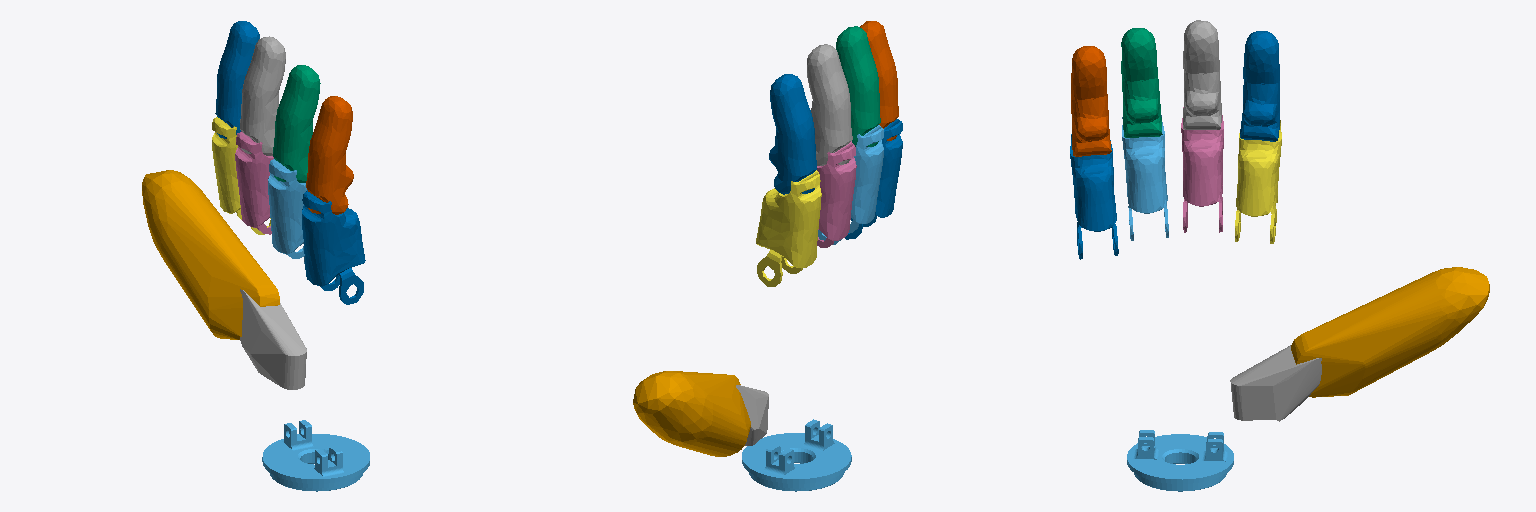
URDF robot description (ability_hand):
<robot name="ability_hand">
  <link name="base_link"/>
  <joint name="base_joint" type="fixed">
    <parent link="base_link"/>
    <child link="base"/>
    <origin xyz="0 0 0" rpy="0 0 -1.57079"/>
  </joint>
  <link name="base">
    <visual name="wrist_mesh">
      <origin rpy="0 0 0" xyz="0 0 0"/>
      <geometry>
        <mesh filename="meshes/visual/wristmesh.obj"/>
      </geometry>
    </visual>
    <collision>
      <origin xyz="0 0 0" rpy="0 0 0"/>
      <geometry>
        <mesh filename="meshes/collision/wristmesh_C.obj"/>
      </geometry>
    </collision>
    <inertial>  <!-- the mass and inertia here are NOT correct -->
      <mass value="0.200"/>
      <inertia ixx="978.26e-6" ixy="87.34e-6" ixz="322.99e-6" iyy="1244.78e-6" iyz="244.74e-6" izz="456.22e-6"/>
      <origin xyz="22.41911e-3 -0.15798201e-3 -0.01319866e-3" rpy="0 0 0"/>
    </inertial>
  </link>
  <joint name="wrist2thumb" type="fixed">
    <parent link="base"/>
    <child link="thumb_base"/>
    <origin xyz="-24.0476665e-3 3.78124745e-3 32.32964923e-3" rpy="3.14148426 -0.08848813 -3.14036612"/>
  </joint>
  <link name="thumb_base">
    <inertial>
      <mass value="0.200"/>
      <inertia ixx="978.26e-6" ixy="87.34e-6" ixz="322.99e-6" iyy="1244.78e-6" iyz="244.74e-6" izz="456.22e-6"/>
      <origin xyz="22.41911e-3 -0.15798201e-3 -0.01319866e-3" rpy="0 0 0"/>
    </inertial>
    <visual name="palm_mesh">
      <origin rpy="0 0 0" xyz="0 0 0"/>
      <geometry>
        <mesh filename="meshes/visual/FB_palm_ref_MIR.obj"/>
      </geometry>
    </visual>
    <collision>                                  <!-- thumb_base -->
      <origin xyz="0 0 0" rpy="0 0 0"/>
      <geometry>
        <mesh filename="meshes/collision/FB_palm_ref_MIR.obj"/>
      </geometry>
    </collision>
  </link>
  <link name="index_L1">
    <inertial>
      <mass value="0.00635888"/>
      <inertia ixx="0.29766e-4" ixy="-0.06447133e-4" ixz="-0.00423315e-4" iyy="3.6947967e-4" iyz="0.00083028e-4" izz="3.8176336e-4"/>
      <origin xyz="22.41911e-3 -0.15798201e-3 -0.01319866e-3" rpy="0 0 0"/>
    </inertial>
    <visual name="index_mesh_1">
      <origin xyz="38.472723e-3 3.257695e-3 0.000000" rpy="0 0 0.084474"/>
      <geometry>
        <mesh filename="meshes/visual/idx-F1.obj"/>
      </geometry>
    </visual>
    <collision>                                  <!-- index_L1 -->
      <origin xyz="0.036 -0.00175 0" rpy="0 0 0"/>
      <geometry>
        <sphere radius="0.0085"/>
      </geometry>
    </collision>
    <collision>
      <origin xyz="0.019 -0.0045 0" rpy="0 0 0.0845"/>
      <geometry>
        <box size="0.028 0.012 0.016"/>
      </geometry>
    </collision>
    <collision>
      <origin xyz="-0.001 0 0.007" rpy="0 0 0.0845"/>
      <geometry>
        <box size="0.012 0.012 0.002"/>
      </geometry>
    </collision>
    <collision>
      <origin xyz="-0.001 0 -0.007" rpy="0 0 0.0845"/>
      <geometry>
        <box size="0.012 0.012 0.002"/>
      </geometry>
    </collision>
  </link>
  <link name="index_L2">
    <inertial>
      <mass value="0.00645"/>
      <inertia ixx="0.82671e-4" ixy="-1.08876e-4" ixz="-0.00037e-4" iyy="1.98028e-4" iyz="0.00081e-4" izz="2.64638e-4"/>
      <origin rpy="0 0 0" xyz="13.36818e-3 -8.75392e-3 -0.02886e-3"/>
    </inertial>
    <visual name="index_mesh_2">
      <origin rpy="0 0 0" xyz="9.1241e-3 0 0"/>
      <geometry>
        <mesh filename="meshes/visual/idx-F2.obj"/>
      </geometry>
    </visual>
    <collision>                            <!-- index_L2 -->
      <origin xyz="0 0 0" rpy="0 0 0"/>
      <geometry>
        <mesh filename="meshes/collision/idx-F2_C.obj"/>
      </geometry>
    </collision>
    <collision>
      <origin xyz="0.03 -0.016 0" rpy="0 0 0"/>
      <geometry>
        <sphere radius="0.007"/>
      </geometry>
    </collision>
  </link>
  <joint name="index_q1" type="revolute">
    <parent link="thumb_base"/>
    <child link="index_L1"/>
    <origin xyz=" 9.49e-3 -13.04e-3 -62.95e-3 " rpy=" -1.1595426535897932 1.284473 -1.0510016535897932 "/>
    <axis xyz="0 0 1"/>
    <limit lower="0" upper="2.0943951" effort="6.0" velocity="8.0677777442"/>    <!-- angles in rad, efforts in N-m, velocity in rad/s -->
    <dynamics damping="0.001" friction="0.001"/>  <!-- Friction coefficient is not from quantitative measurement -->
  </joint>
  <joint name="index_q2" type="revolute">
    <parent link="index_L1"/>
    <child link="index_L2"/>
    <origin xyz="38.472723e-3 3.257695e-3 0.000000e-3" rpy="0 0 0.084474"/>
    <axis xyz="0 0 1"/>
    <limit lower="0.0" upper="2.6586" effort="6.0" velocity="8.0677777442"/>    <!-- angles in rad, efforts in N-m, velocity in rad/s -->
    <dynamics damping="0.001" friction="0.001"/>  <!-- Friction coefficient is not from quantitative measurement -->
    <mimic joint="index_q1" multiplier="1.05851325" offset="0.72349796"/>
  </joint>
  <link name="index_anchor"/>
  <joint name="idx_anchor" type="fixed">
    <parent link="index_L2"/>
    <child link="index_anchor"/>
    <origin rpy="0 0 0" xyz="31.5541e-3  -10.44e-3 0.14e-3"/>
  </joint>
  <link name="middle_L1">
    <inertial>
      <mass value="0.00635888"/>
      <inertia ixx="0.29766e-4" ixy="-0.06447133e-4" ixz="-0.00423315e-4" iyy="3.6947967e-4" iyz="0.00083028e-4" izz="3.8176336e-4"/>
      <origin xyz="22.41911e-3 -0.15798201e-3 -0.01319866e-3" rpy="0 0 0"/>
    </inertial>
    <visual name="middle_mesh_1">
      <origin xyz="38.472723e-3 3.257695e-3 0.000000" rpy="0 0 0.084474"/>
      <geometry>
        <mesh filename="meshes/visual/idx-F1.obj"/>
      </geometry>
    </visual>
    <collision>                                  <!-- middle_L1 -->
      <origin xyz="0.036 -0.00175 0" rpy="0 0 0"/>
      <geometry>
        <sphere radius="0.0085"/>
      </geometry>
    </collision>
    <collision>
      <origin xyz="0.019 -0.0045 0" rpy="0 0 0.0845"/>
      <geometry>
        <box size="0.028 0.012 0.016"/>
      </geometry>
    </collision>
    <collision>
      <origin xyz="0.018 0.006 0" rpy="0 0 0.0845"/>
      <geometry>
        <box size="0.02 0.01 0.016"/>
      </geometry>
    </collision>
    <collision>
      <origin xyz="-0.001 0 0.007" rpy="0 0 0.0845"/>
      <geometry>
        <box size="0.012 0.012 0.002"/>
      </geometry>
    </collision>
    <collision>
      <origin xyz="-0.001 0 -0.007" rpy="0 0 0.0845"/>
      <geometry>
        <box size="0.012 0.012 0.002"/>
      </geometry>
    </collision>
  </link>
  <link name="middle_L2">
    <inertial>
      <mass value="0.00645"/>
      <inertia ixx="0.82671e-4" ixy="-1.08876e-4" ixz="-0.00037e-4" iyy="1.98028e-4" iyz="0.00081e-4" izz="2.64638e-4"/>
      <origin rpy="0 0 0" xyz="13.36818e-3 -8.75392e-3 -0.02886e-3"/>
    </inertial>
    <visual name="middle_mesh_2">
      <origin rpy="0 0 0" xyz="9.1241e-3 0 0"/>
      <geometry>
        <mesh filename="meshes/visual/idx-F2.obj"/>
      </geometry>
    </visual>
    <collision>                            <!-- middle_L2 -->
      <origin xyz="0 0 0" rpy="0 0 0"/>
      <geometry>
        <mesh filename="meshes/collision/idx-F2_C.obj"/>
      </geometry>
    </collision>
    <collision>
      <origin xyz="0.03 -0.016 0" rpy="0 0 0"/>
      <geometry>
        <sphere radius="0.007"/>
      </geometry>
    </collision>
  </link>
  <joint name="middle_q1" type="revolute">
    <parent link="thumb_base"/>
    <child link="middle_L1"/>
    <origin xyz=" -9.653191e-3 -15.310271e-3 -67.853949e-3 " rpy=" -1.2810616535897934 1.308458 -1.2453756535897933 "/>
    <limit lower="0" upper="2.0943951" effort="6.0" velocity="8.0677777442"/>    <!-- angles in rad, efforts in N-m, velocity in rad/s -->
    <dynamics damping="0.001" friction="0.001"/>  <!-- Friction coefficient is not from quantitative measurement -->
    <axis xyz="0 0 1"/>
  </joint>
  <joint name="middle_q2" type="revolute">
    <parent link="middle_L1"/>
    <child link="middle_L2"/>
    <origin xyz="38.472723e-3 3.257695e-3 0.000000" rpy="0 0 0.084474"/>
    <axis xyz="0 0 1"/>
    <limit lower="0.0" upper="2.6586" effort="6.0" velocity="8.0677777442"/>    <!-- angles in rad, efforts in N-m, velocity in rad/s -->
    <dynamics damping="0.001" friction="0.001"/>  <!-- Friction coefficient is not from quantitative measurement -->
    <mimic joint="middle_q1" multiplier="1.05851325" offset="0.72349796"/>
  </joint>
  <link name="middle_anchor"/>
  <joint name="mid_anchor" type="fixed">
    <parent link="middle_L2"/>
    <child link="middle_anchor"/>
    <origin rpy="0 0 0" xyz="31.5541e-3  -10.44e-3 0.14e-3"/>
  </joint>
  <link name="ring_L1">
    <inertial>
      <mass value="0.00635888"/>
      <inertia ixx="0.29766e-4" ixy="-0.06447133e-4" ixz="-0.00423315e-4" iyy="3.6947967e-4" iyz="0.00083028e-4" izz="3.8176336e-4"/>
      <origin xyz="22.41911e-3 -0.15798201e-3 -0.01319866e-3" rpy="0 0 0"/>
    </inertial>
    <visual name="ring_mesh_1">
      <origin xyz="38.472723e-3 3.257695e-3 0.000000" rpy="0 0 0.084474"/>
      <geometry>
        <mesh filename="meshes/visual/idx-F1.obj"/>
      </geometry>
    </visual>
    <collision>                                  <!-- ring_L1 -->
      <origin xyz="0.036 -0.00175 0" rpy="0 0 0"/>
      <geometry>
        <sphere radius="0.0085"/>
      </geometry>
    </collision>
    <collision>
      <origin xyz="0.019 -0.0045 0" rpy="0 0 0.0845"/>
      <geometry>
        <box size="0.028 0.012 0.016"/>
      </geometry>
    </collision>
    <collision>
      <origin xyz="0.018 0.006 0" rpy="0 0 0.0845"/>
      <geometry>
        <box size="0.02 0.01 0.016"/>
      </geometry>
    </collision>
    <collision>
      <origin xyz="-0.001 0 0.007" rpy="0 0 0.0845"/>
      <geometry>
        <box size="0.012 0.012 0.002"/>
      </geometry>
    </collision>
    <collision>
      <origin xyz="-0.001 0 -0.007" rpy="0 0 0.0845"/>
      <geometry>
        <box size="0.012 0.012 0.002"/>
      </geometry>
    </collision>
  </link>
  <link name="ring_L2">
    <inertial>
      <mass value="0.00645"/>
      <inertia ixx="0.82671e-4" ixy="-1.08876e-4" ixz="-0.00037e-4" iyy="1.98028e-4" iyz="0.00081e-4" izz="2.64638e-4"/>
      <origin rpy="0 0 0" xyz="13.36818e-3 -8.75392e-3 -0.02886e-3"/>
    </inertial>
    <visual name="ring_mesh_2">
      <origin rpy="0 0 0" xyz="9.1241e-3 0 0"/>
      <geometry>
        <mesh filename="meshes/visual/idx-F2.obj"/>
      </geometry>
    </visual>
    <collision>                            <!-- ring_L2 -->
      <origin xyz="0 0 0" rpy="0 0 0"/>
      <geometry>
        <mesh filename="meshes/collision/idx-F2_C.obj"/>
      </geometry>
    </collision>
    <collision>
      <origin xyz="0.03 -0.016 0" rpy="0 0 0"/>
      <geometry>
        <sphere radius="0.007"/>
      </geometry>
    </collision>
  </link>
  <joint name="ring_q1" type="revolute">
    <parent link="thumb_base"/>
    <child link="ring_L1"/>
    <origin xyz=" -29.95426e-3 -14.212492e-3 -67.286105e-3 " rpy=" -1.424994653589793 1.321452 -1.4657306535897934 "/>
    <limit lower="0" upper="2.0943951" effort="6.0" velocity="8.0677777442"/>    <!-- angles in rad, efforts in N-m, velocity in rad/s -->
    <dynamics damping="0.001" friction="0.001"/>  <!-- Friction coefficient is not from quantitative measurement -->
    <axis xyz="0 0 1"/>
  </joint>
  <joint name="ring_q2" type="revolute">
    <parent link="ring_L1"/>
    <child link="ring_L2"/>
    <origin xyz="38.472723e-3 3.257695e-3 0.000000" rpy="0 0 0.084474"/>
    <axis xyz="0 0 1"/>
    <limit lower="0.0" upper="2.6586" effort="6.0" velocity="8.0677777442"/>    <!-- angles in rad, efforts in N-m, velocity in rad/s -->
    <dynamics damping="0.001" friction="0.001"/>  <!-- Friction coefficient is not from quantitative measurement -->
    <mimic joint="ring_q1" multiplier="1.05851325" offset="0.72349796"/>
  </joint>
  <link name="ring_anchor"/>
  <joint name="rng_anchor" type="fixed">
    <parent link="ring_L2"/>
    <child link="ring_anchor"/>
    <origin rpy="0 0 0" xyz="31.5541e-3  -10.44e-3 0.14e-3"/>
  </joint>
  <link name="pinky_L1">
    <inertial>
      <mass value="0.00635888"/>
      <inertia ixx="0.29766e-4" ixy="-0.06447133e-4" ixz="-0.00423315e-4" iyy="3.6947967e-4" iyz="0.00083028e-4" izz="3.8176336e-4"/>
      <origin xyz="22.41911e-3 -0.15798201e-3 -0.01319866e-3" rpy="0 0 0"/>
    </inertial>
    <visual name="pinky_mesh_1">
      <origin xyz="38.472723e-3 3.257695e-3 0.000000" rpy="0 0 0.084474"/>
      <geometry>
        <mesh filename="meshes/visual/idx-F1.obj"/>
      </geometry>
    </visual>
    <collision>                                  <!-- pinky_L1 -->
      <origin xyz="0.036 -0.00175 0" rpy="0 0 0"/>
      <geometry>
        <sphere radius="0.0085"/>
      </geometry>
    </collision>
    <collision>
      <origin xyz="0.019 -0.0045 0" rpy="0 0 0.0845"/>
      <geometry>
        <box size="0.028 0.012 0.016"/>
      </geometry>
    </collision>
    <collision>
      <origin xyz="0.018 0.006 0" rpy="0 0 0.0845"/>
      <geometry>
        <box size="0.02 0.01 0.016"/>
      </geometry>
    </collision>
    <collision>
      <origin xyz="-0.001 0 0.007" rpy="0 0 0.0845"/>
      <geometry>
        <box size="0.012 0.012 0.002"/>
      </geometry>
    </collision>
    <collision>
      <origin xyz="-0.001 0 -0.007" rpy="0 0 0.0845"/>
      <geometry>
        <box size="0.012 0.012 0.002"/>
      </geometry>
    </collision>
  </link>
  <link name="pinky_L2">
    <inertial>
      <mass value="0.00645"/>
      <inertia ixx="0.82671e-4" ixy="-1.08876e-4" ixz="-0.00037e-4" iyy="1.98028e-4" iyz="0.00081e-4" izz="2.64638e-4"/>
      <origin rpy="0 0 0" xyz="13.36818e-3 -8.75392e-3 -0.02886e-3"/>
    </inertial>
    <visual name="pinky_mesh_2">
      <origin rpy="0 0 0" xyz="9.1241e-3 0 0"/>
      <geometry>
        <mesh filename="meshes/visual/idx-F2.obj"/>
      </geometry>
    </visual>
    <collision>                            <!-- pinky_L2 -->
      <origin xyz="0 0 0" rpy="0 0 0"/>
      <geometry>
        <mesh filename="meshes/collision/idx-F2_C.obj"/>
      </geometry>
    </collision>
    <collision>
      <origin xyz="0.03 -0.016 0" rpy="0 0 0"/>
      <geometry>
        <sphere radius="0.007"/>
      </geometry>
    </collision>
  </link>
  <joint name="pinky_q1" type="revolute">
    <parent link="thumb_base"/>
    <child link="pinky_L1"/>
    <origin xyz=" -49.521293e-3 -11.004583e-3 -63.029065e-3 " rpy=" -1.3764826535897934 1.32222 -1.4832096535897932 "/>
    <limit lower="0" upper="2.0943951" effort="6.0" velocity="8.0677777442"/>    <!-- angles in rad, efforts in N-m, velocity in rad/s -->
    <dynamics damping="0.001" friction="0.001"/>  <!-- Friction coefficient is not from quantitative measurement -->
    <axis xyz="0 0 1"/>
  </joint>
  <joint name="pinky_q2" type="revolute">
    <parent link="pinky_L1"/>
    <child link="pinky_L2"/>
    <origin xyz="38.472723e-3 3.257695e-3 0.000000" rpy="0 0 0.084474"/>
    <limit lower="0.0" upper="2.6586" effort="6.0" velocity="8.0677777442"/>    <!-- angles in rad, efforts in N-m, velocity in rad/s -->
    <dynamics damping="0.001" friction="0.001"/>  <!-- Friction coefficient is not from quantitative measurement -->
    <axis xyz="0 0 1"/>
    <mimic joint="pinky_q1" multiplier="1.05851325" offset="0.72349796"/>
  </joint>
  <link name="pinky_anchor"/>
  <joint name="pnky_anchor" type="fixed">
    <parent link="pinky_L2"/>
    <child link="pinky_anchor"/>
    <origin rpy="0 0 0" xyz="31.5541e-3  -10.44e-3 0.14e-3"/>
  </joint>
  <link name="thumb_L1">
    <inertial>
      <mass value="0.00268342"/>
      <inertia ixx="0.16931e-4" ixy="-0.076214e-4" ixz="-0.16959148e-4" iyy="0.77769934e-4" iyz="0.0156622e-4" izz="0.7249122e-4"/>
      <origin rpy="0 0 0" xyz="14.606e-3 -1.890854e-3 -3.1155356e-3"/>
    </inertial>
    <visual name="thumb_mesh_1">
      <origin xyz=" 27.8283501e-3 1.7436510745838653e-19 14.7507e-3 " rpy=" 1.832595714594045 -0.0 5.366520605522463e-18 "/>
      <geometry>
        <mesh filename="meshes/visual/thumb-F1-MIR.obj"/>
      </geometry>
    </visual>
    <collision>                            <!-- thumb_L1 -->
      <origin xyz="27.8283501e-3 1.7436510745838653e-19 14.7507e-3" rpy="1.832595714594045 -0.0 5.366520605522463e-18"/>
      <geometry>
        <mesh filename="meshes/collision/thumb-F1-MIR_C.obj"/>
      </geometry>
    </collision>
  </link>
  <link name="thumb_L2">
    <inertial>
      <mass value="0.0055"/>
      <inertia ixx="4.4789082e-4" ixy="4.4789082e-4" ixz="-0.62144934e-4" iyy="15.600996e-4" iyz="-0.07466143e-4" izz="17.908554e-4"/>
      <origin rpy="0 0 0" xyz="30.020522e-3 5.59476e-3 -4.1504356e-3"/>
    </inertial>
    <visual name="thumb_mesh_2">
      <origin xyz="65.18669e-3 23.34021e-3 3.93483e-3" rpy="-3.141592 0 0.343830"/>
      <geometry>
        <mesh filename="meshes/visual/thumb-F2.obj"/>
      </geometry>
    </visual>
    <collision>                            <!-- thumb_L2 -->
      <origin xyz="65.18669e-3 23.34021e-3 3.93483e-3" rpy="-3.141592 0 0.343830"/>
      <geometry>
        <mesh filename="meshes/collision/thumb-F2_C.obj"/>
      </geometry>
    </collision>
  </link>
  <joint name="thumb_q1" type="revolute">
    <parent link="thumb_base"/>
    <child link="thumb_L1"/>
    <origin xyz=" 0.0 0.0 0.0 " rpy=" 3.141592653589793 -0.0 -0.18884434641020664 "/>
    <axis xyz="0 0 1"/>
    <limit lower="-2.0943951" upper="0" effort="1.2" velocity="40.338888721"/>    <!-- angles in rad, efforts in N-m, velocity in rad/s -->
    <dynamics damping="0.001" friction="0.001"/>  <!-- Friction coefficient is not from quantitative measurement -->
  </joint>
  <joint name="thumb_q2" type="revolute">
    <parent link="thumb_L1"/>
    <child link="thumb_L2"/>
    <origin xyz=" 27.8283501e-3 1.7436510745838653e-19 14.7507e-3 " rpy=" 1.832595714594045 -0.0 5.366520605522463e-18 "/>
    <axis xyz="0 0 1"/>
    <limit lower="0" upper="2.0943951" effort="6.0" velocity="8.0677777442"/>    <!-- angles in rad, efforts in N-m, velocity in rad/s -->
    <dynamics damping="0.001" friction="0.001"/>  <!-- Friction coefficient is not from quantitative measurement -->
  </joint>
  <link name="thumb_anchor"/>
  <joint name="thmb_anchor" type="fixed">
    <parent link="thumb_L2"/>
    <child link="thumb_anchor"/>
    <origin rpy="0 0 0" xyz="52.00122724e-3 28.00869333e-3 6.98483578e-3"/>
  </joint>
</robot>

--- What the picture shows (computed from the rendered views, not written in the file) ---
The picture shows the robot from 3 angles, left to right: view 1: azimuth 30°, elevation 25°; view 2: azimuth 150°, elevation 25°; view 3: azimuth 270°, elevation 25°; orthographic projection.
Model ability_hand with 18 links and 17 joints (10 revolute, 7 fixed), rooted at base_link, posed every joint at zero.
Visible links, largest first — view 1: thumb_L2, base, pinky_L1, thumb_L1, pinky_L2, ring_L2, middle_L2, index_L2, ring_L1, middle_L1, index_L1; view 2: thumb_L2, base, index_L1, index_L2, middle_L2, ring_L2, middle_L1, ring_L1, pinky_L2, pinky_L1, thumb_L1; view 3: thumb_L2, base, thumb_L1, ring_L2, index_L2, pinky_L2, middle_L2, index_L1, pinky_L1, middle_L1, ring_L1.
Link boxes in pixels (x1,y1,x2,y2): thumb_L2: (142, 170, 279, 339); base: (262, 420, 369, 491); pinky_L1: (302, 190, 365, 304); thumb_L1: (240, 289, 306, 389); pinky_L2: (306, 96, 353, 214); ring_L2: (273, 65, 320, 182); middle_L2: (240, 36, 285, 155); index_L2: (215, 21, 259, 138); ring_L1: (268, 159, 306, 263); middle_L1: (235, 131, 273, 234); index_L1: (212, 117, 270, 234); thumb_L2: (633, 371, 750, 456); base: (742, 419, 851, 491); index_L1: (756, 170, 821, 286); index_L2: (769, 74, 816, 194); middle_L2: (807, 44, 852, 165); ring_L2: (836, 26, 880, 146); middle_L1: (817, 141, 856, 247); ring_L1: (818, 125, 883, 244); pinky_L2: (860, 21, 898, 140); pinky_L1: (845, 119, 902, 239); thumb_L1: (736, 385, 768, 445); thumb_L2: (1291, 267, 1489, 397); base: (1127, 430, 1233, 491); thumb_L1: (1230, 345, 1321, 421); ring_L2: (1121, 28, 1162, 137); index_L2: (1240, 31, 1279, 141); pinky_L2: (1071, 46, 1111, 156); middle_L2: (1183, 20, 1221, 129); index_L1: (1235, 120, 1281, 243); pinky_L1: (1070, 134, 1118, 259); middle_L1: (1181, 107, 1223, 232); ring_L1: (1122, 115, 1168, 240).
Size in the robot's own frame: 0.0487 by 0.1564 by 0.1779 metres.
11 mesh visuals loaded from 6 distinct referenced files (5 OBJ); not drawn: 1 (reference not matched to a file when rendering).